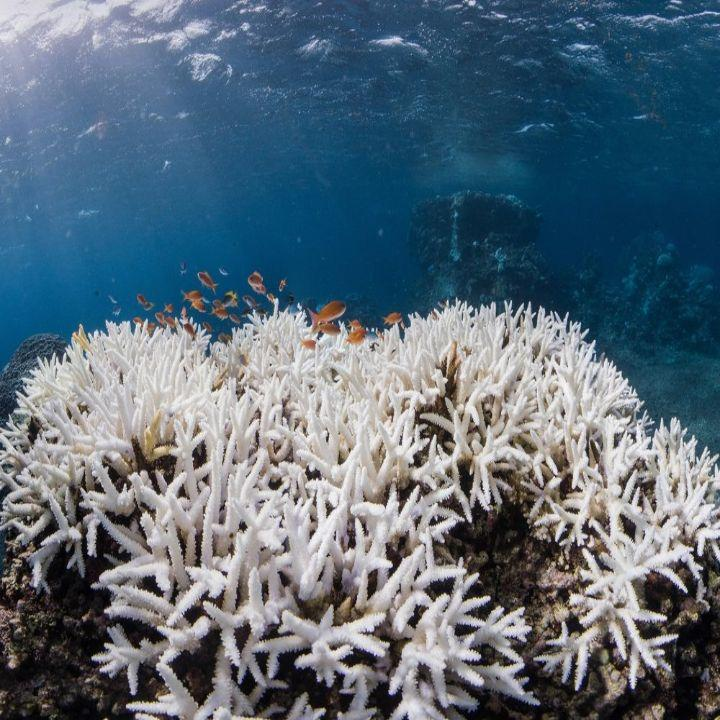Bleached disease: (30, 275, 705, 699)
